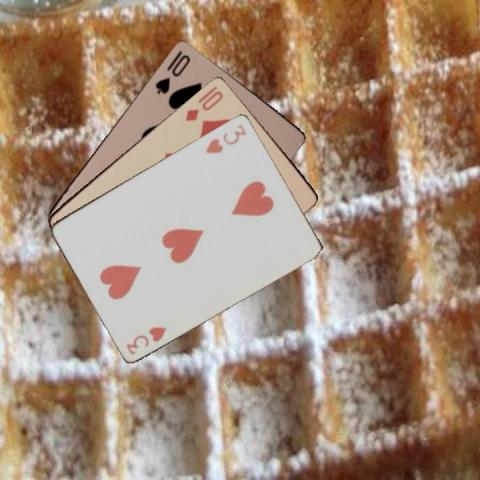10d: (182, 87, 225, 122)
10s: (152, 51, 192, 95)
3h: (202, 120, 248, 154), (123, 323, 168, 356)
